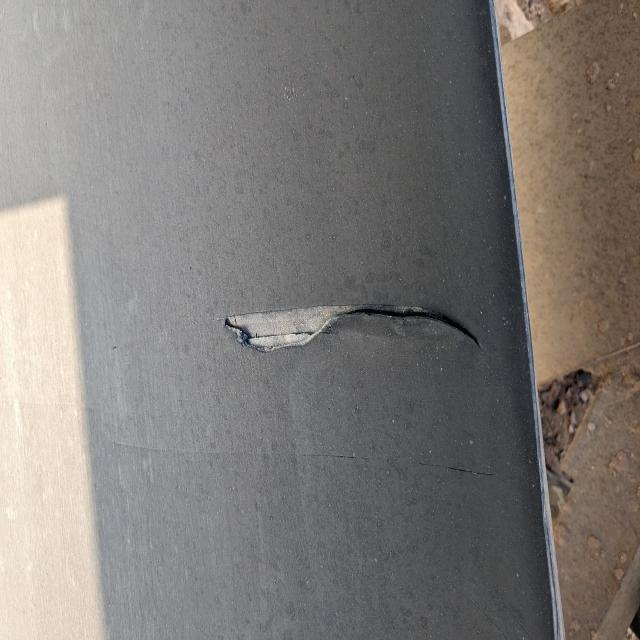Tear: (216, 300, 486, 353)
